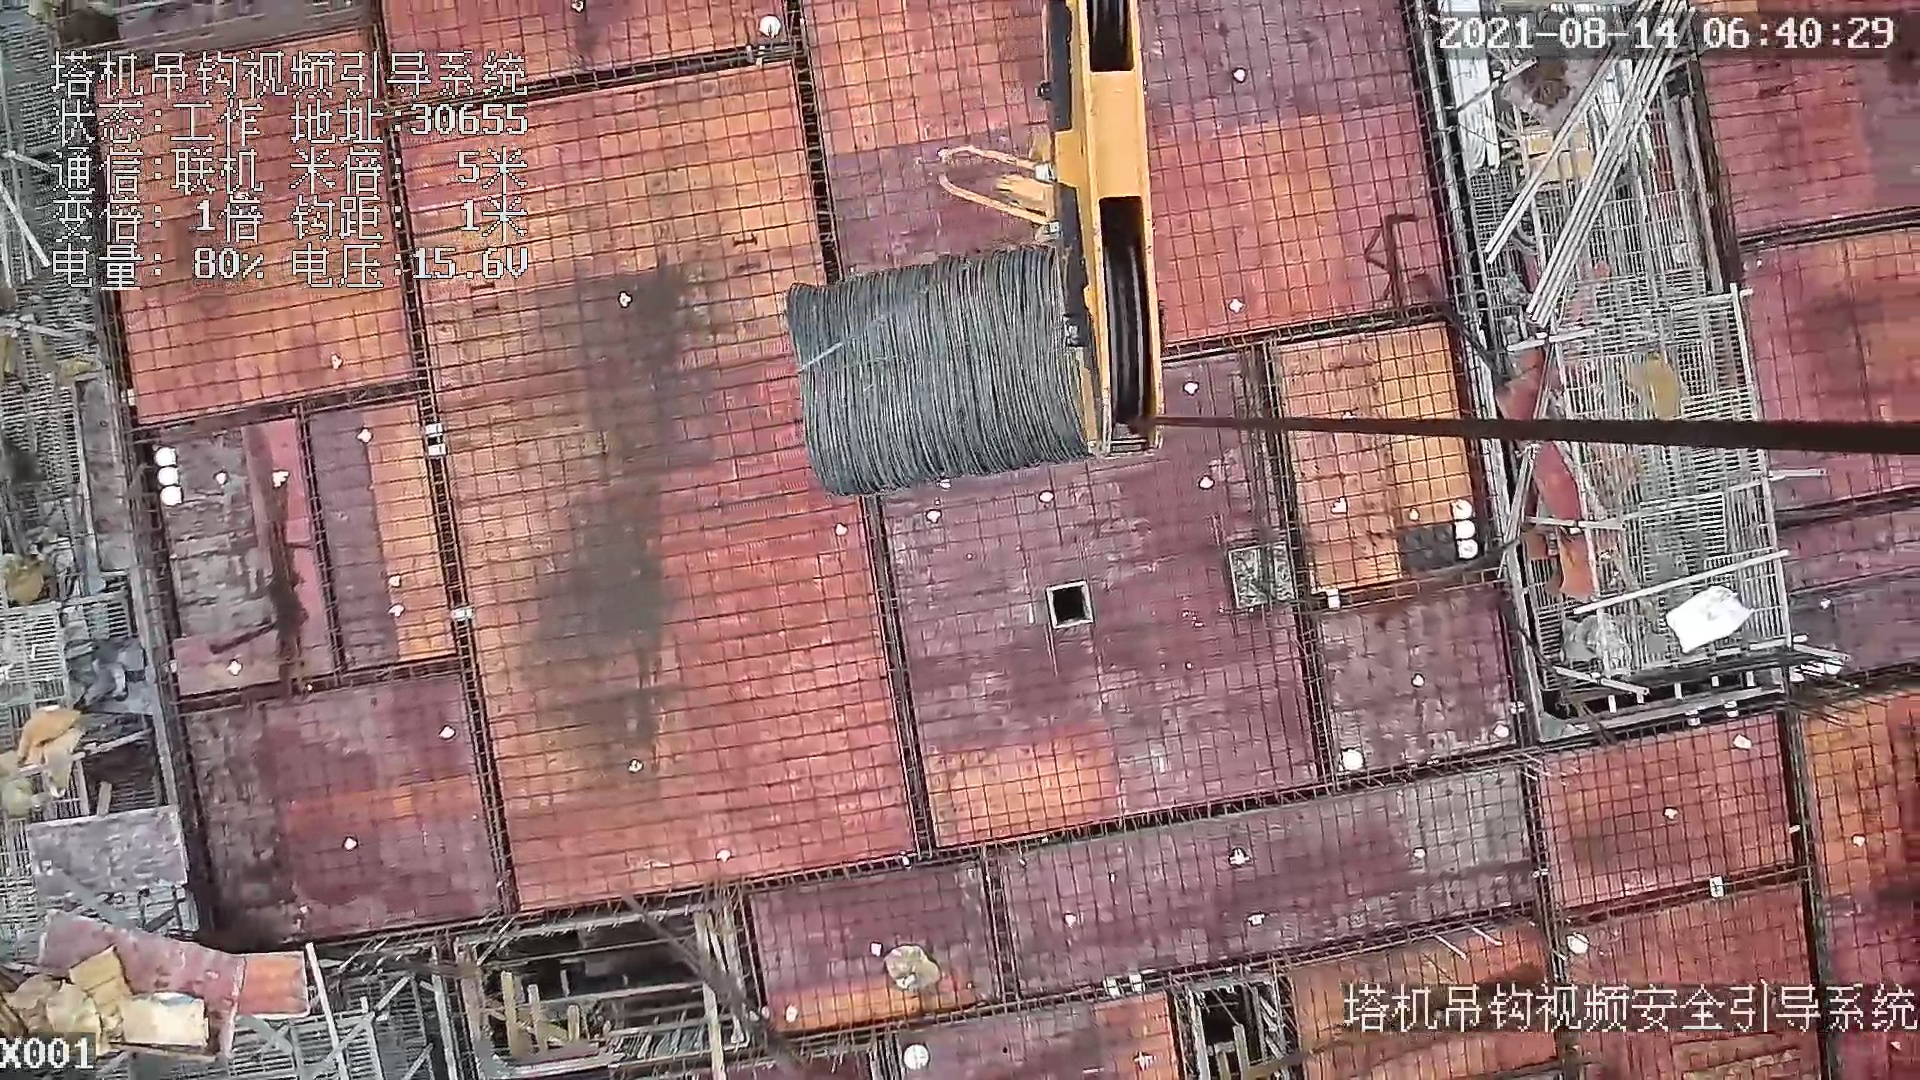hook: (936, 1, 1174, 459)
